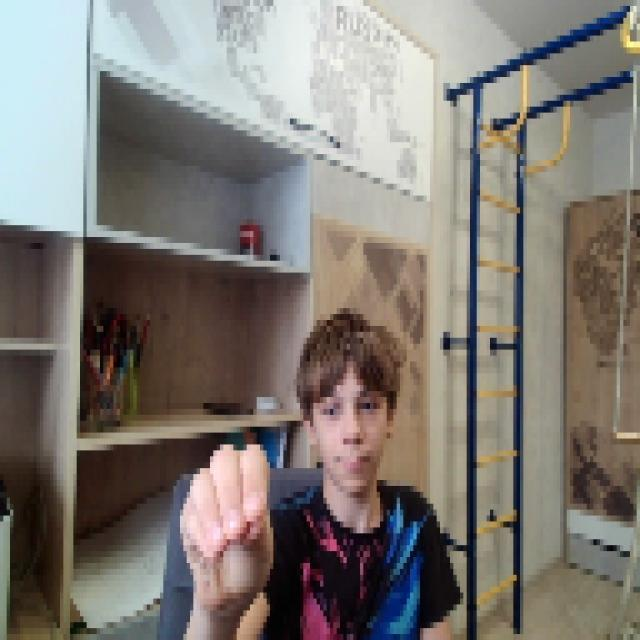left_click: (174, 432, 274, 598)
